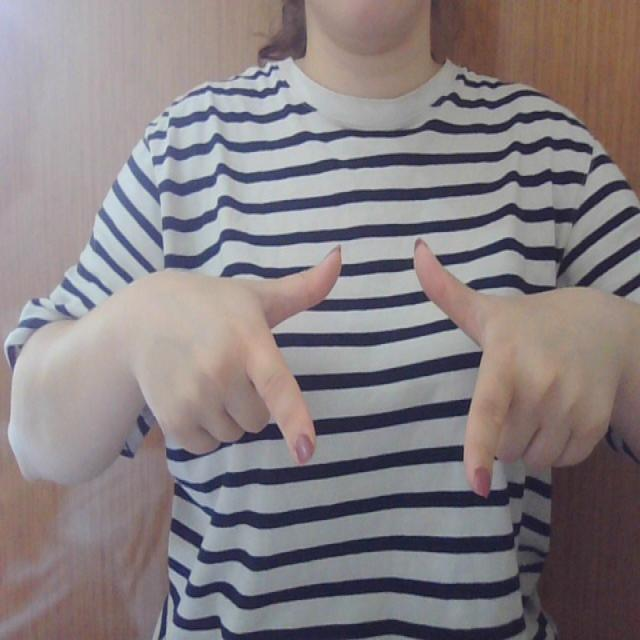Nerede: (225, 231, 529, 508)
